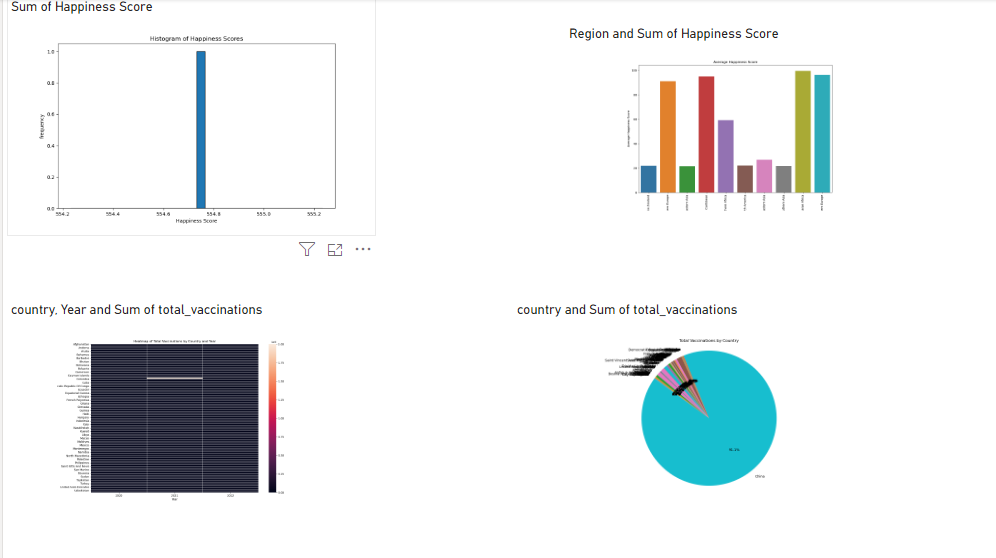

This screenshot's page, from the dashboard's own definition file:
{"tool":"powerbi","page":{"name":"python_visuals","canvas":[1280,720],"ordinal":1},"visuals":[{"type":"pythonVisual","fields":{"Values":["Sum(World_Happiness_Report.Happiness Score)"]},"box":[4.6,0,475.4,304.6],"z":0},{"type":"pythonVisual","fields":{"Values":["country_covid_vaccinations.country","Sum(country_covid_vaccinations.total_vaccinations)"]},"box":[655.4,390,496.2,276.9],"z":1000},{"type":"pythonVisual","fields":{"Values":["World_Happiness_Report.Region","Sum(World_Happiness_Report.Happiness Score)"]},"box":[722.3,34.6,429.2,242.3],"z":2000},{"type":"pythonVisual","fields":{"Values":["country_covid_vaccinations.country","country_covid_vaccinations.date.Variation.Date Hierarchy.Year","Sum(country_covid_vaccinations.total_vaccinations)"]},"box":[4.6,390,475.4,276.9],"z":3000}]}

Visuals, with their boxes in screenshot pixels (x1, y1, x2, y2), scaled from the page's 1280x720 canvas onto the 996x558 screenshot:
pythonVisual - Sum(World_Happiness_Report.Happiness Score): Rect(4, 0, 374, 236)
pythonVisual - country_covid_vaccinations.country x Sum(country_covid_vaccinations.total_vaccinations): Rect(510, 302, 896, 517)
pythonVisual - World_Happiness_Report.Region x Sum(World_Happiness_Report.Happiness Score): Rect(562, 27, 896, 215)
pythonVisual - country_covid_vaccinations.country x country_covid_vaccinations.date.Variation.Date Hierarchy.Year: Rect(4, 302, 374, 517)
